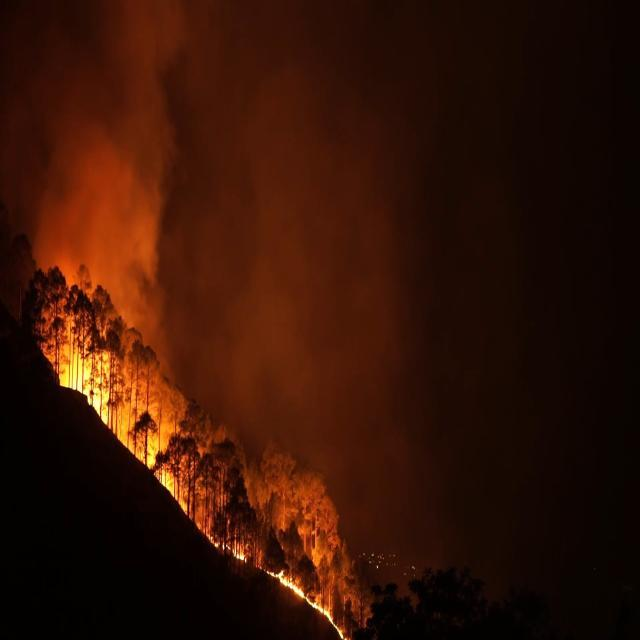Fire: (38, 344, 354, 639)
